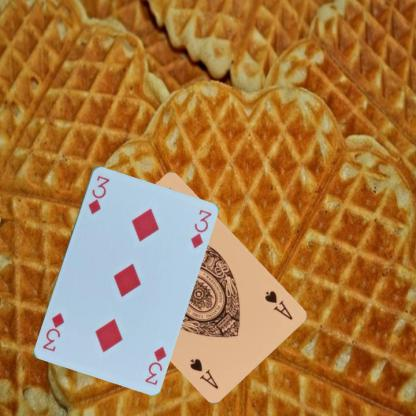3d: (142, 343, 168, 386), (85, 172, 110, 216)
As: (262, 288, 294, 322)
